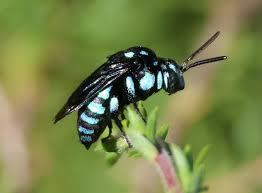Thyreus: (57, 20, 230, 155)
